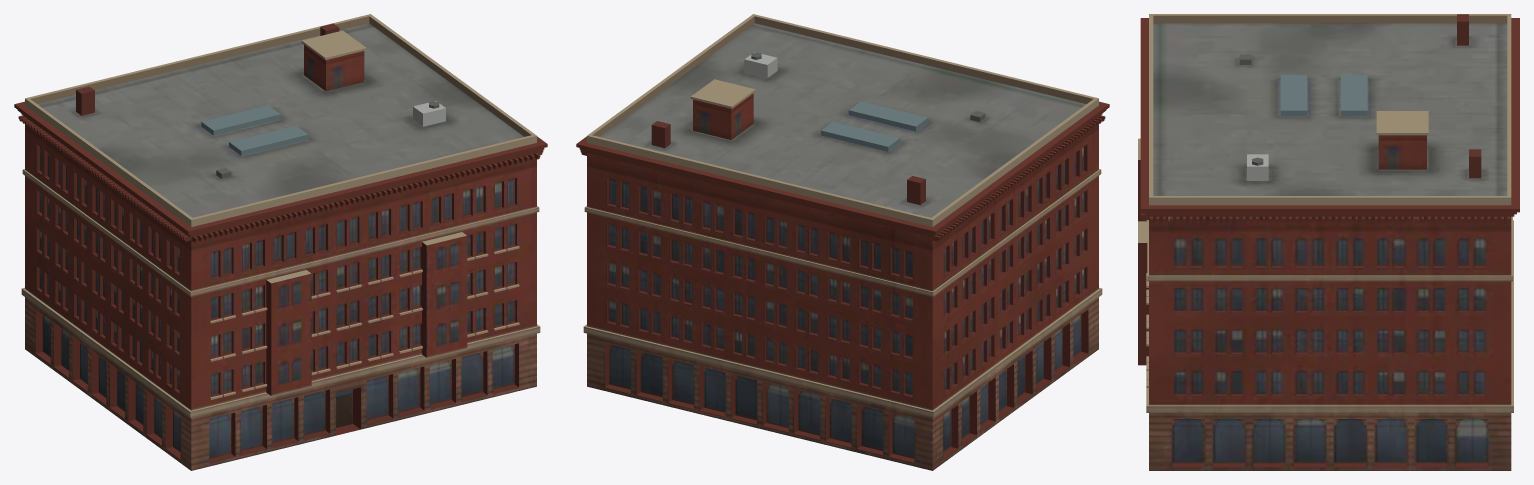
File: seattle_pioneer_a.glb
The picture shows the model from 3 angles, left to right: view 1: azimuth 30°, elevation 25°; view 2: azimuth 150°, elevation 25°; view 3: azimuth 270°, elevation 25°; orthographic projection. The views are drawn at different scales.
Parts seen in each view (by area): view 1: seattle_pioneer_a; view 2: seattle_pioneer_a; view 3: seattle_pioneer_a.
Part boxes in pixels (<box>): seattle_pioneer_a: <box>14,14,547,470</box>; seattle_pioneer_a: <box>576,14,1109,470</box>; seattle_pioneer_a: <box>1138,14,1519,470</box>.
Bounding box in the file's own units: 37.4 × 27.67 × 31.6.
Materials: 1 (1 with a texture image).
